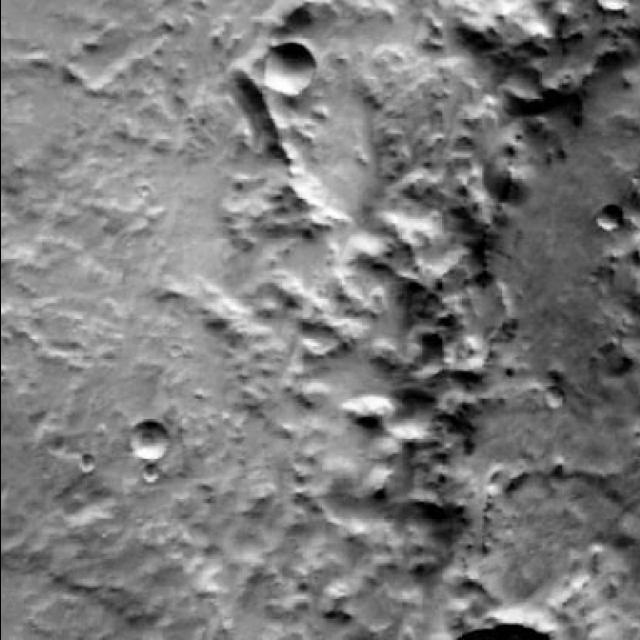crater: (264, 44, 316, 94), (131, 422, 169, 460), (596, 202, 626, 232), (542, 388, 564, 410), (140, 468, 158, 486), (79, 456, 96, 472), (590, 0, 622, 8)
